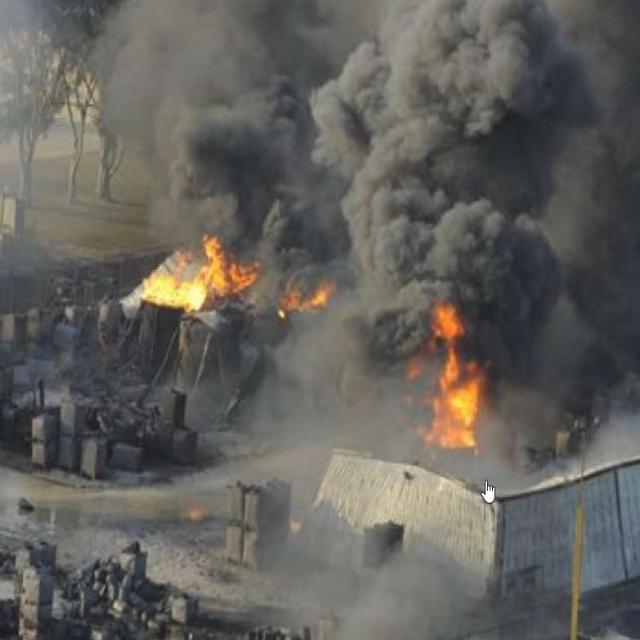Fire: (374, 294, 476, 454), (151, 251, 268, 321)
Smoke: (140, 2, 592, 430)
